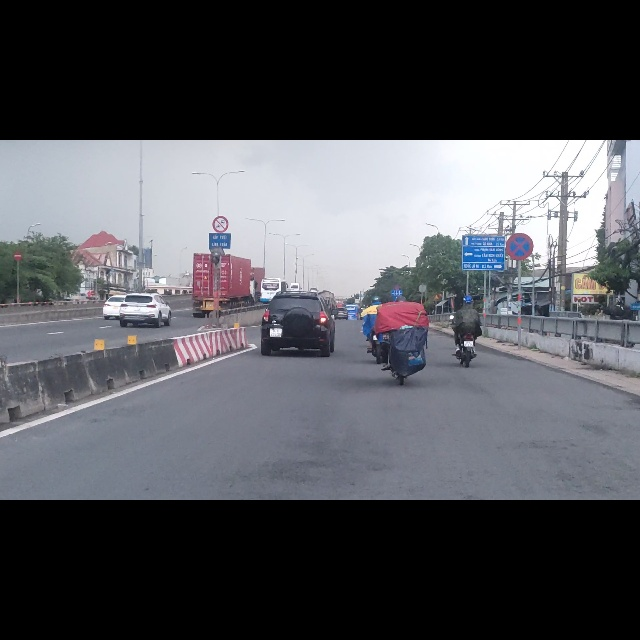bien_nguy_hiem: (506, 164, 533, 215), (212, 134, 228, 164), (14, 198, 22, 213)
